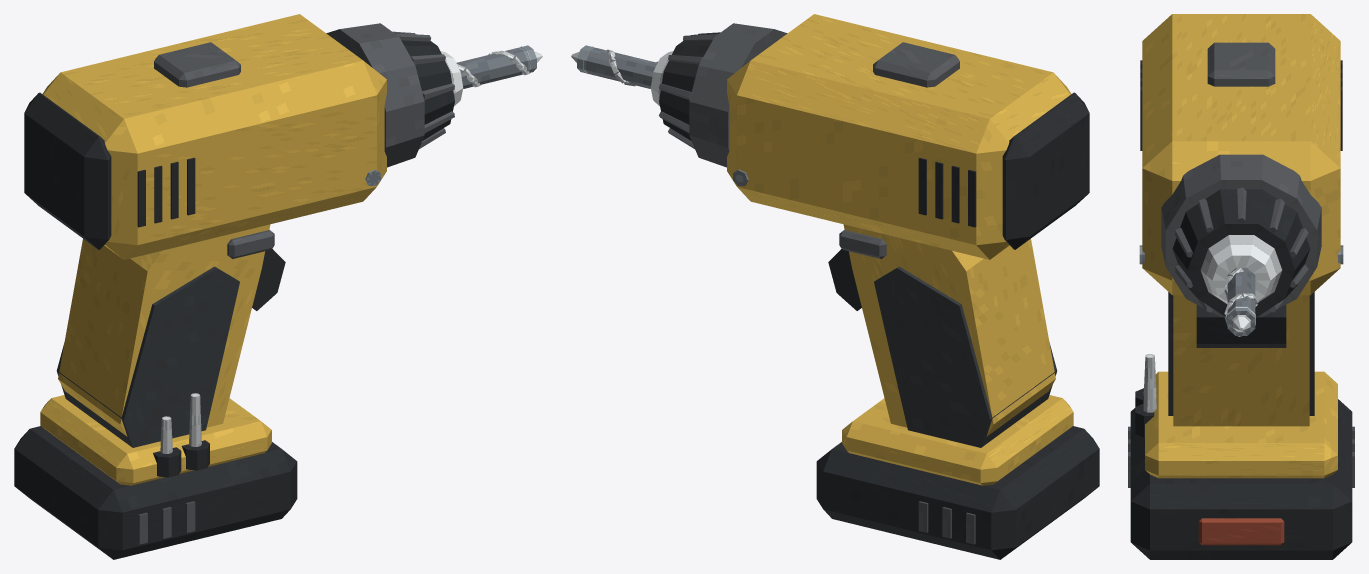
The model's file is cordless_drill.glb.
3 renders of one model, left to right at view 1: azimuth 30°, elevation 25°; view 2: azimuth 150°, elevation 25°; view 3: azimuth 270°, elevation 25°, orthographic. The views are drawn at different scales.
Visible parts, largest first — view 1: block_yellow motor housing, block_removable slide battery, block_angled pistol grip, block_rubber grip overmold, block_black rear motor cap, block_yellow battery shoe, block_clutch collar, block_top speed selector, block_knurled keyless chuck, block_drill bit shank, block_spare bit holder (×2), block_curved drill trigger (+1 smaller); view 2: block_yellow motor housing, block_removable slide battery, block_angled pistol grip, block_rubber grip overmold, block_black rear motor cap, block_yellow battery shoe, block_clutch collar, block_top speed selector, block_knurled keyless chuck, block_drill bit shank, block_curved drill trigger, block_forward reverse selector; view 3: block_yellow motor housing, block_removable slide battery, block_angled pistol grip, block_yellow battery shoe, block_clutch collar, block_knurled keyless chuck, block_steel chuck nose, block_top speed selector, block_curved drill trigger, block_battery release latch, block_rubber grip overmold, block_drill bit shank (+4 smaller).
Part boxes in pixels (x1,y1,x2,y2): block_yellow motor housing: [42, 14, 386, 259]; block_removable slide battery: [14, 426, 297, 559]; block_angled pistol grip: [58, 224, 270, 436]; block_rubber grip overmold: [56, 266, 239, 447]; block_black rear motor cap: [24, 92, 111, 249]; block_yellow battery shoe: [40, 395, 271, 485]; block_clutch collar: [326, 23, 424, 167]; block_top speed selector: [154, 42, 240, 87]; block_knurled keyless chuck: [394, 32, 454, 140]; block_drill bit shank: [456, 45, 536, 88]; block_spare bit holder (×2): [153, 440, 209, 477]; block_curved drill trigger: [252, 248, 285, 310]; block_yellow motor housing: [727, 14, 1071, 259]; block_removable slide battery: [816, 426, 1099, 559]; block_angled pistol grip: [843, 224, 1055, 436]; block_rubber grip overmold: [874, 266, 1057, 447]; block_black rear motor cap: [1002, 92, 1089, 249]; block_yellow battery shoe: [842, 395, 1073, 485]; block_clutch collar: [689, 23, 787, 167]; block_top speed selector: [873, 42, 959, 87]; block_knurled keyless chuck: [659, 32, 719, 140]; block_drill bit shank: [577, 45, 656, 88]; block_curved drill trigger: [828, 248, 861, 310]; block_forward reverse selector: [839, 230, 886, 258]; block_yellow motor housing: [1142, 14, 1340, 295]; block_removable slide battery: [1130, 399, 1352, 559]; block_angled pistol grip: [1173, 295, 1309, 426]; block_yellow battery shoe: [1145, 371, 1337, 478]; block_clutch collar: [1161, 154, 1321, 317]; block_knurled keyless chuck: [1172, 189, 1310, 316]; block_steel chuck nose: [1200, 235, 1282, 304]; block_top speed selector: [1207, 42, 1275, 86]; block_curved drill trigger: [1196, 305, 1286, 347]; block_battery release latch: [1198, 518, 1284, 545]; block_rubber grip overmold: [1168, 292, 1314, 415]; block_drill bit shank: [1227, 268, 1255, 335].
Size of the model in its own units: 0.22 by 0.1902 by 0.0813.
1 material, 1 textured.
